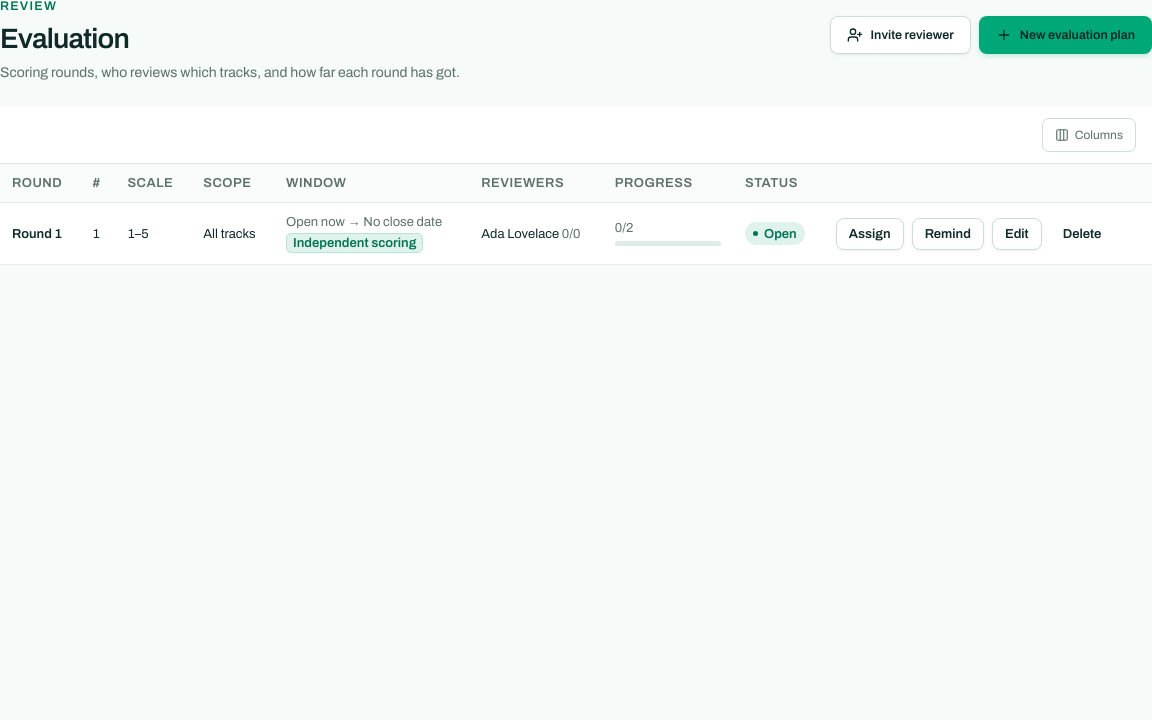
Test case: evaluation round list after a write › shows the round setting an edit just saved, without a reload
Expected: the row that starts with "Round 1" shows "Independent scoring", left=293, top=236, right=416, bottom=250
Click the button "Edit": (1017, 234) left=992, top=218, right=1042, bottom=250
(page scrolled)
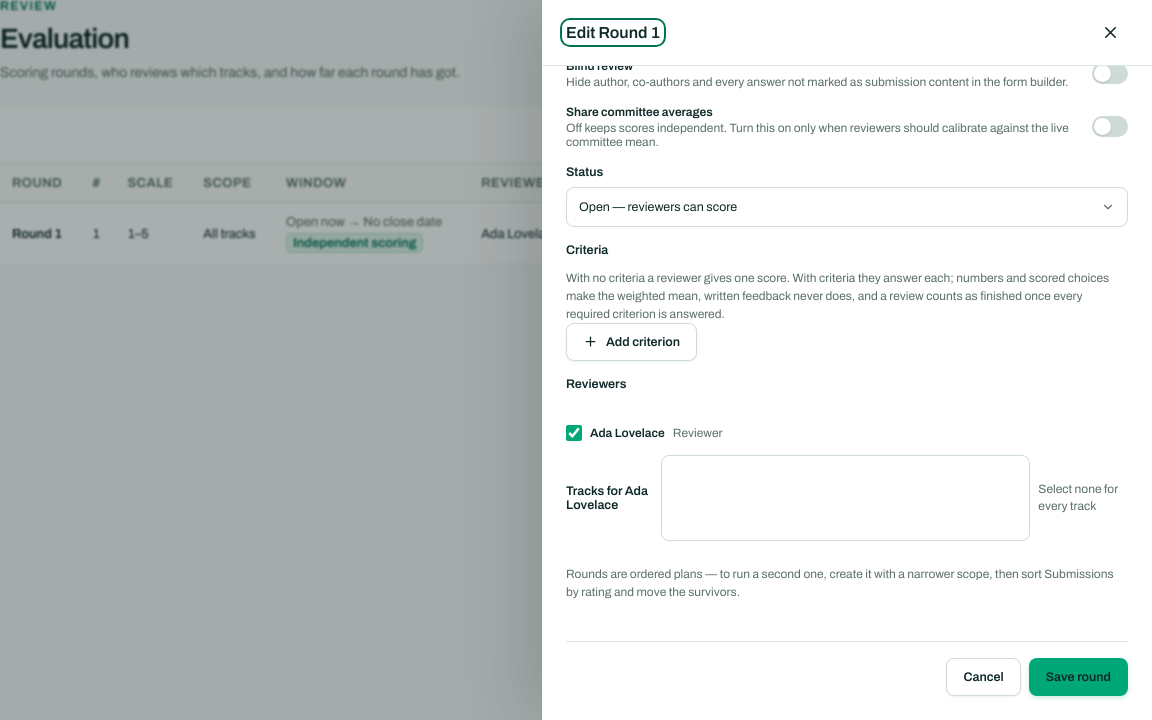
Click the button "Save round": (1078, 676) left=1029, top=658, right=1128, bottom=696
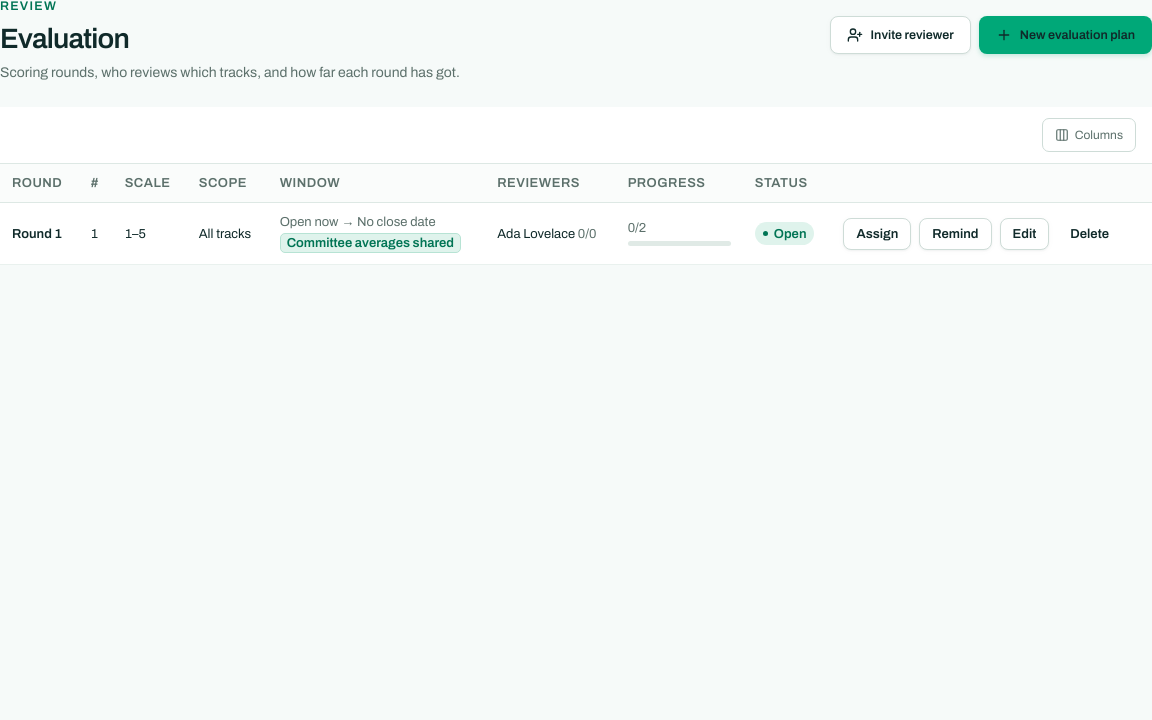
Expected: the row that starts with "Round 1" shows "Committee averages shared", left=287, top=236, right=454, bottom=250
